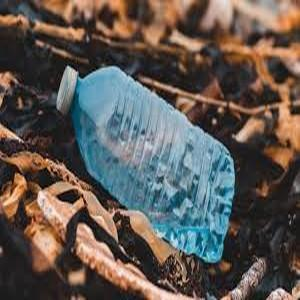Plastic: (55, 59, 240, 261)
